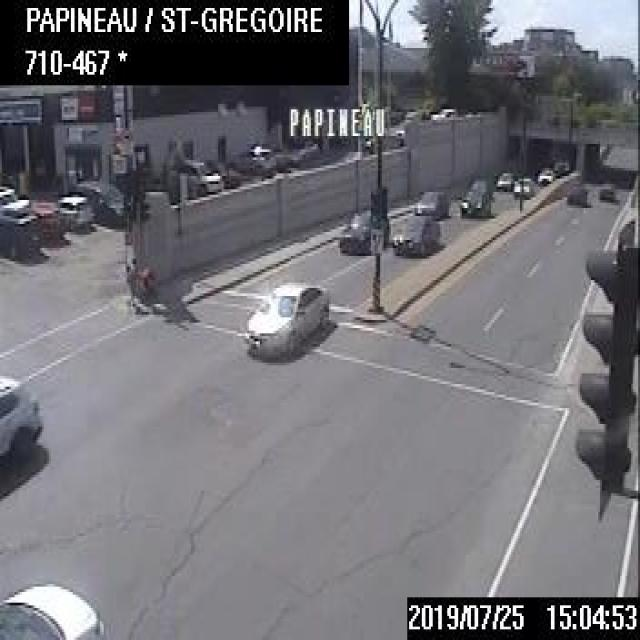pedestrian: (244, 274, 331, 354), (124, 252, 153, 306)
vehicle: (0, 579, 104, 637), (0, 371, 42, 472), (0, 199, 44, 265), (76, 178, 124, 230), (337, 208, 387, 255), (166, 155, 222, 196), (389, 210, 437, 253), (52, 192, 94, 236), (32, 197, 64, 249), (412, 185, 452, 221), (234, 141, 274, 177), (458, 179, 495, 213), (509, 174, 534, 201), (564, 187, 584, 205), (491, 170, 510, 188), (0, 181, 15, 203), (598, 187, 615, 200), (536, 168, 551, 181)
